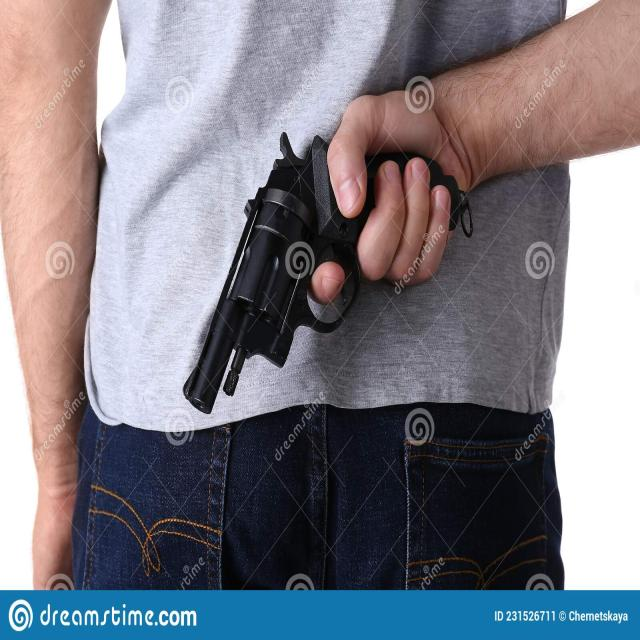HandGun: (184, 133, 467, 416)
